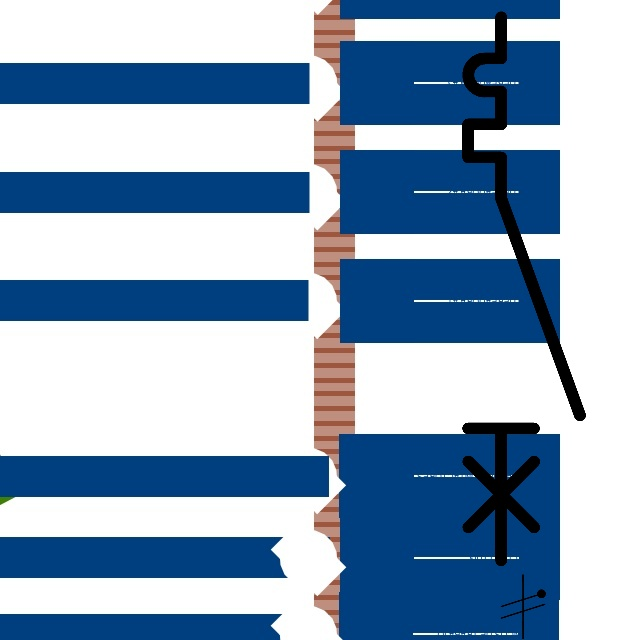interruptor_termomagnetico: (454, 3, 594, 574)
